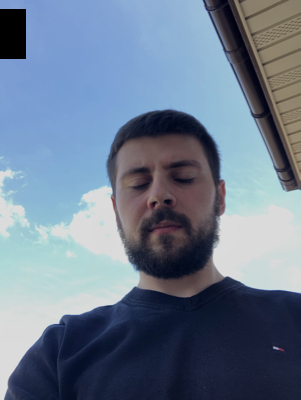without_mask: (118, 151, 216, 279)
